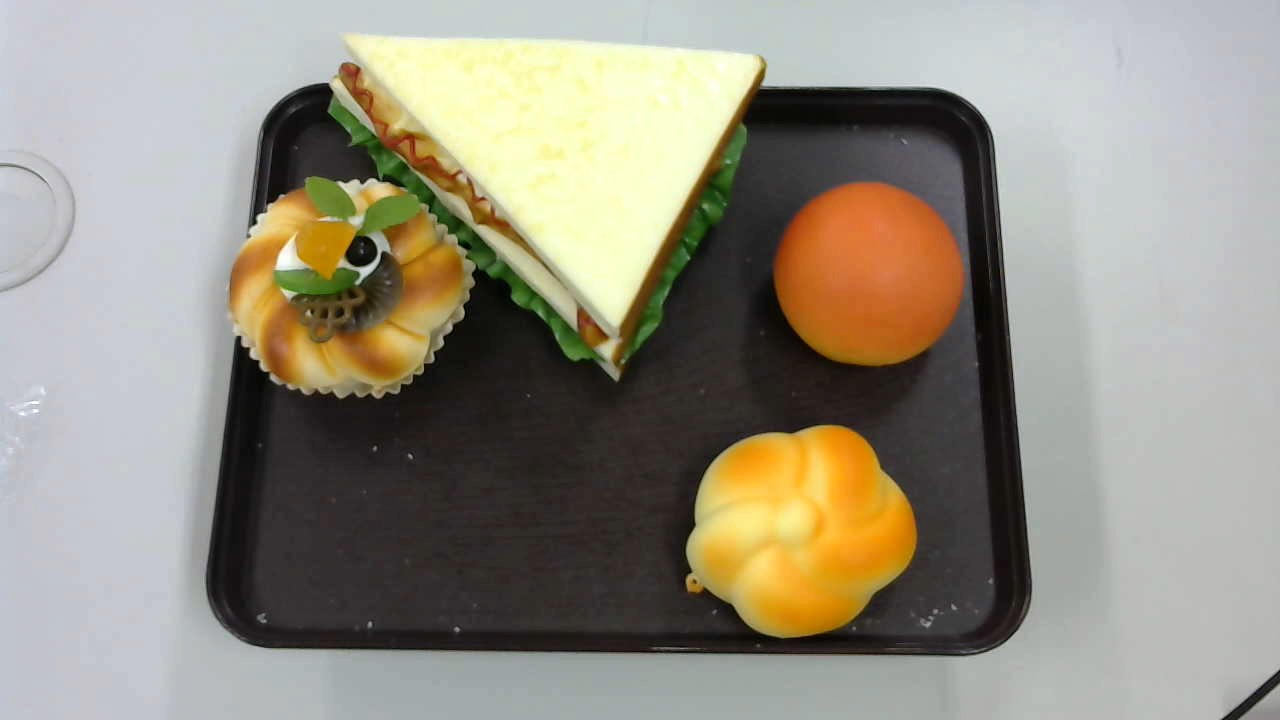bun: (771, 181, 964, 367)
fruit tart: (226, 174, 475, 399)
sandwich: (327, 32, 768, 382)
twist bread: (684, 424, 918, 639)
